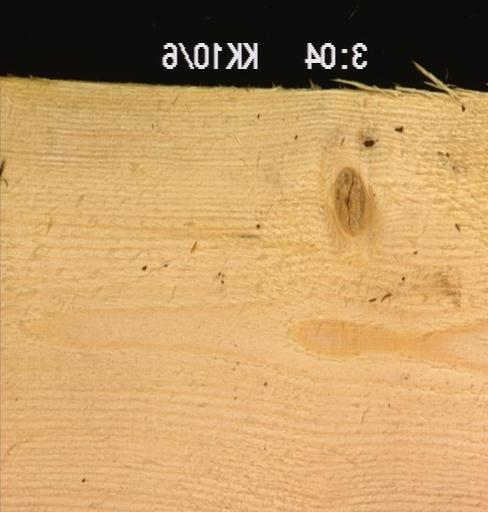sound_knot: (333, 165, 370, 237)
